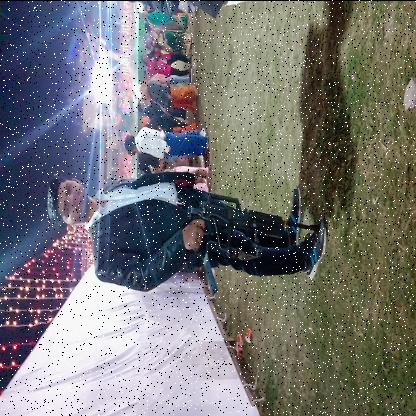rifle: (186, 190, 322, 262)
